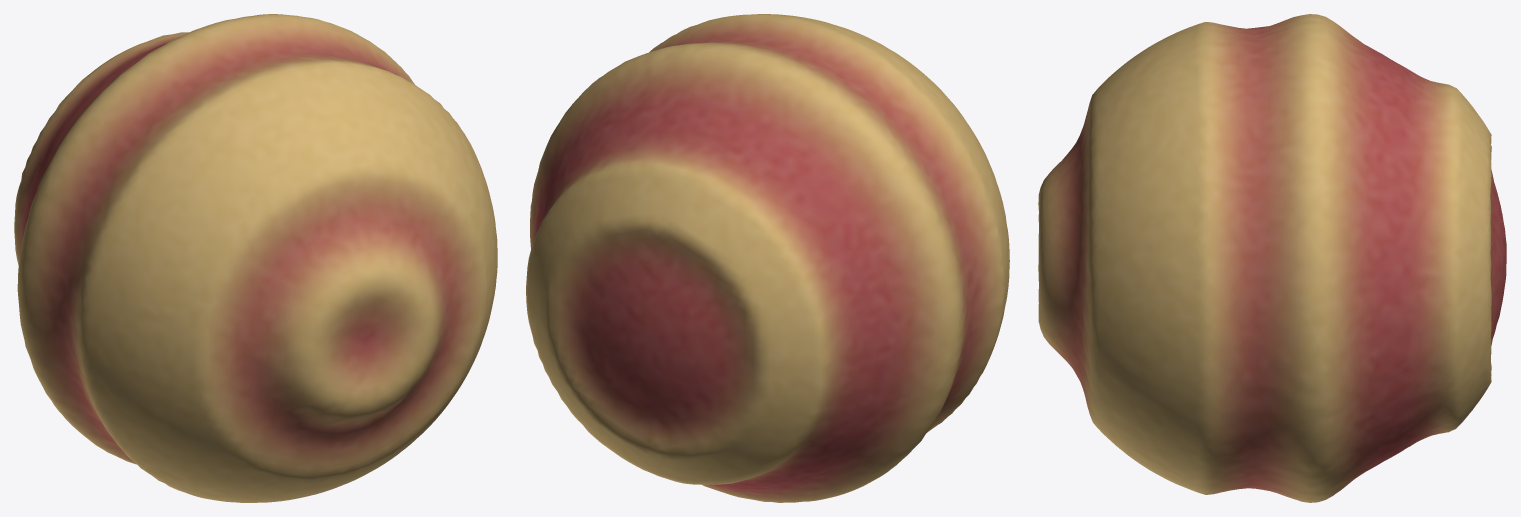
The model's file is planet_4.glb.
3 views of the same model, side by side, from view 1: azimuth 30°, elevation 25°; view 2: azimuth 150°, elevation 25°; view 3: azimuth 270°, elevation 25° (orthographic).
Parts seen in each view (by area): view 1: world; view 2: world; view 3: world.
Boxes of the visible parts, <box> form: world: <box>14,14,497,502</box>; world: <box>526,14,1009,502</box>; world: <box>1038,14,1506,502</box>.
Size of the model in its own units: 2.16 by 2.16 by 2.06.
